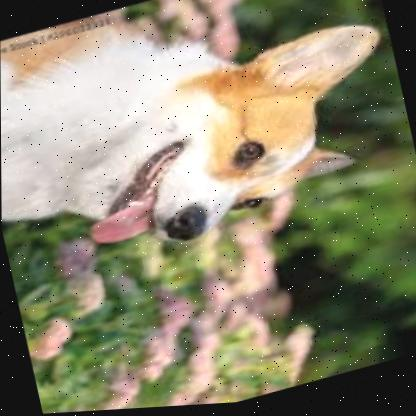dog: (0, 0, 413, 288)
